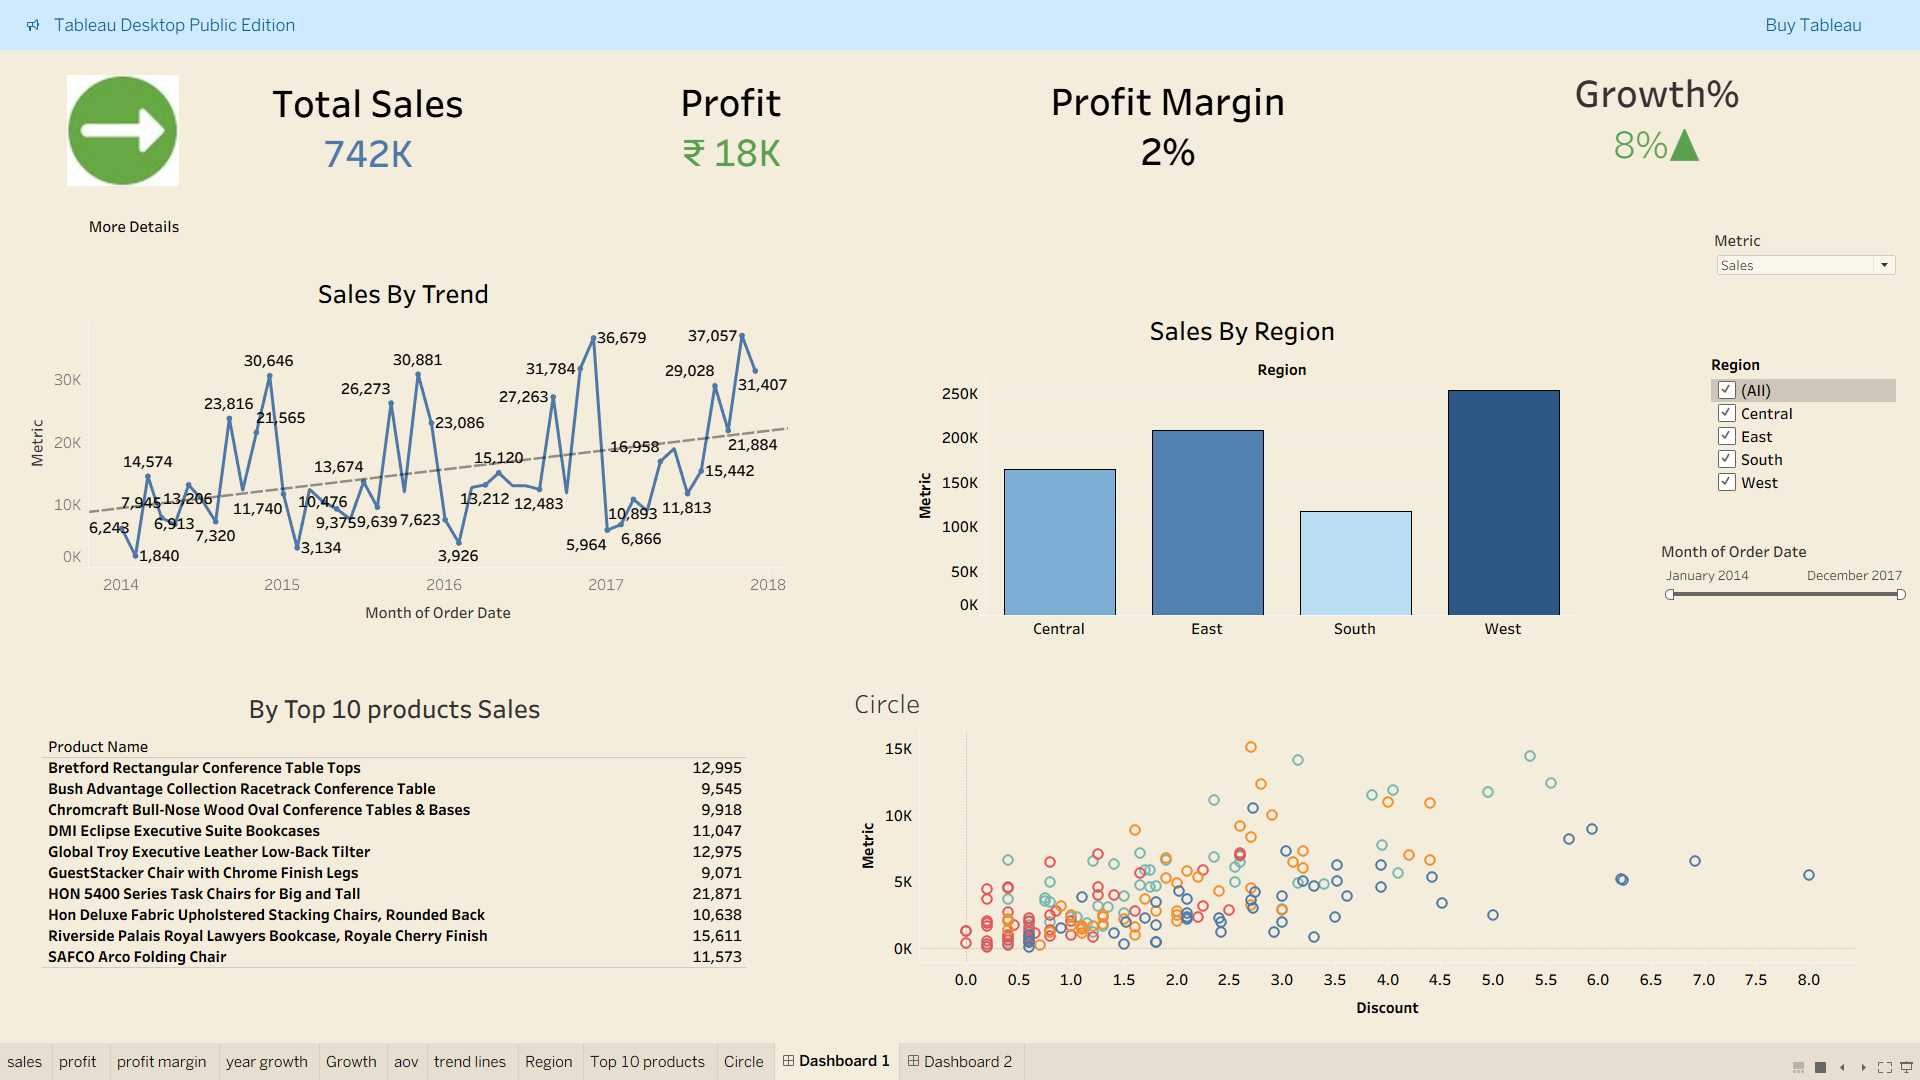

What the dashboard file says about the page in this screenshot:
{"tool":"tableau","page":{"name":"Dashboard 1","canvas":[1000,1000],"units":"permille","ordinal":0},"visuals":[{"type":"worksheet","title":"Growth","mark":"Automatic","box":[741,1.2,243.4,137.3]},{"type":"worksheet","title":"profit margin","mark":"Automatic","box":[492.2,2.5,232.5,148.6]},{"type":"worksheet","title":"profit ","mark":"Automatic","box":[278.3,3.8,205.4,146.1]},{"type":"worksheet","title":"sales","mark":"Automatic","box":[104.8,6.2,173.5,144.8]},{"type":"dashboard-object","box":[16.3,25,96.4,112.4]},{"type":"text","box":[12.1,152.3,115.7,51.2]},{"type":"parameter","param":"[Parameters].[Parameter 1]","box":[892.8,181,96.4,59.9]},{"type":"worksheet","title":"trend lines","mark":"Automatic","rows":["Calculation_1850135079084814344"],"cols":["Order Date"],"box":[9.6,223.5,400.6,360.8]},{"type":"worksheet","title":"Region","mark":"Automatic","rows":["Calculation_1850135079084814344"],"cols":["Region"],"box":[472.3,260.9,349.4,333.3]},{"type":"filter","title":"Region","param":"[federated.09pl5a81gb49yt11yrnxc1l9p0f7].[none:Region:nk]","box":[891,305.9,96.4,178.5]},{"type":"filter","title":"trend lines","param":"[federated.09pl5a81gb49yt11yrnxc1l9p0f7].[tmn:Order Date:qk]","box":[865.1,494.4,129.5,81.2]},{"type":"worksheet","title":"Circle","mark":"Automatic","rows":["Calculation_1850135079084814344"],"cols":["Discount"],"box":[442.8,636.7,524.1,345.8]},{"type":"worksheet","title":"Top 10 products","mark":"Automatic","rows":["Product Name"],"box":[21.7,641.7,413.9,333.3]}]}

Visuals, with their boxes on the dashboard's canvas, which has no fixed pixel size, in thousandths of its width and height (x1, y1, x2, y2). These are canvas units, not pixel positions in the 1920x1080 screenshot, which may show the page scaled, cropped or inside an application window:
"Growth" worksheet: <region>741, 1, 984, 138</region>
"profit margin" worksheet: <region>492, 2, 725, 151</region>
"profit " worksheet: <region>278, 4, 484, 150</region>
"sales" worksheet: <region>105, 6, 278, 151</region>
dashboard-object: <region>16, 25, 113, 137</region>
text: <region>12, 152, 128, 204</region>
parameter: <region>893, 181, 989, 241</region>
"trend lines" worksheet: <region>10, 224, 410, 584</region>
"Region" worksheet: <region>472, 261, 822, 594</region>
"Region" filter: <region>891, 306, 987, 484</region>
"trend lines" filter: <region>865, 494, 995, 576</region>
"Circle" worksheet: <region>443, 637, 967, 982</region>
"Top 10 products" worksheet: <region>22, 642, 436, 975</region>
